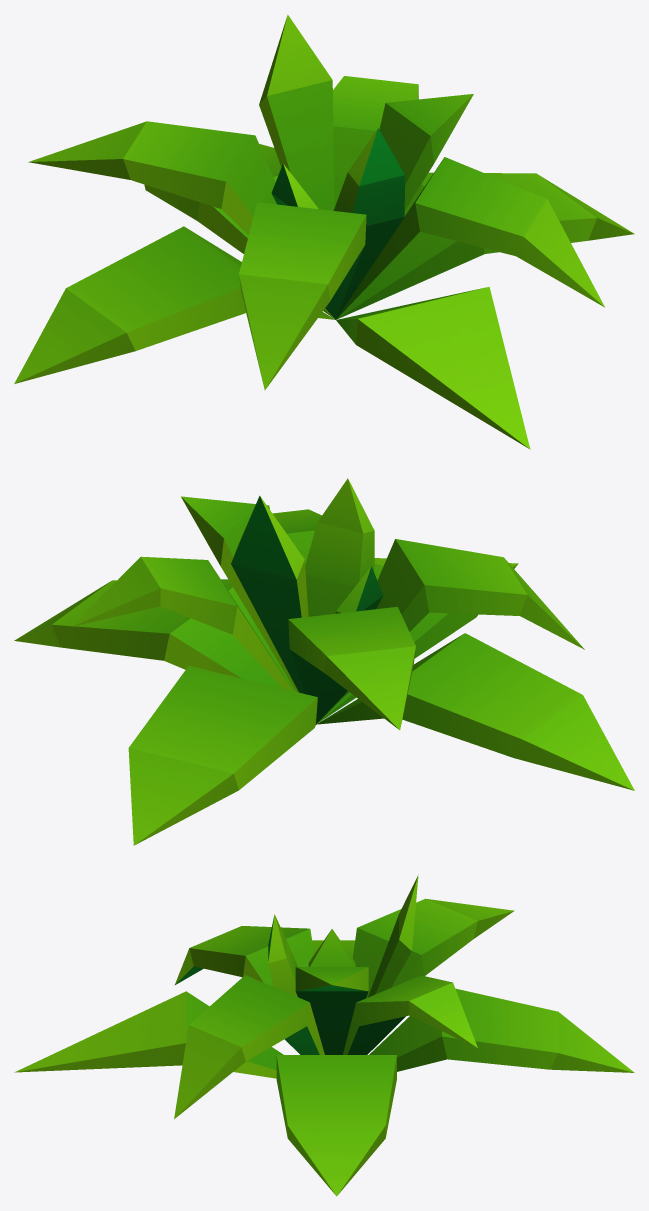
The model's file is GL-Plant-02-LOD3.fbx.
3 views of the same model, one above another, from view 1: azimuth 30°, elevation 25°; view 2: azimuth 150°, elevation 25°; view 3: azimuth 270°, elevation 25° (orthographic). The views are drawn at different scales.
Visible parts, largest first — view 1: GL_Plant_02; view 2: GL_Plant_02; view 3: GL_Plant_02.
Boxes of the visible parts, x1,y1,x2,y2 form: GL_Plant_02: (14,14,634,449); GL_Plant_02: (14,478,634,845); GL_Plant_02: (14,874,634,1196).
Bounding box in the file's own units: 2.4 × 0.9851 × 2.58.
